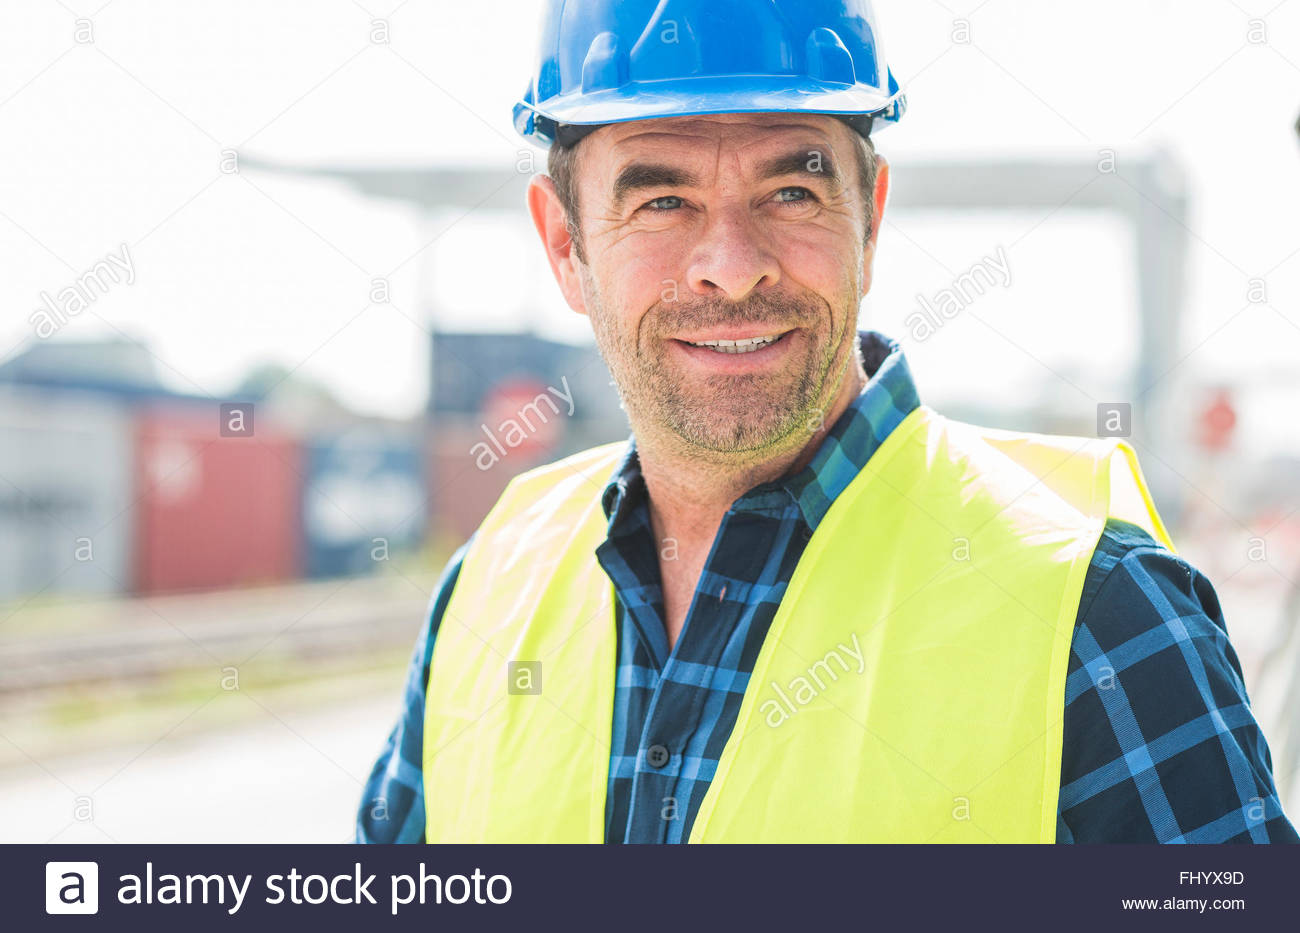Person_wearing_helmet: (507, 1, 958, 318)
